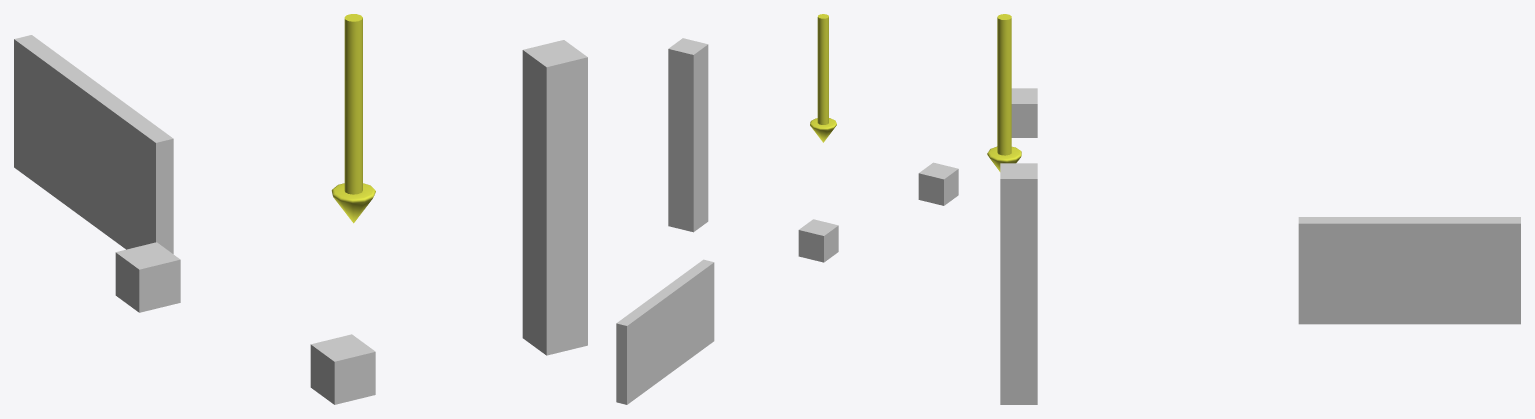
File: directional_light_debug.glb
3 views of the same model, side by side, from view 1: azimuth 30°, elevation 25°; view 2: azimuth 150°, elevation 25°; view 3: azimuth 270°, elevation 25° (orthographic). The views are drawn at different scales.
Parts seen in each view (by area): view 1: Cube.003, Cube.001, Cylinder, Cube, Cube.002; view 2: Cube.003, Cube.001, Cylinder, Cube.002, Cube; view 3: Cube.003, Cube.001, Cylinder, Cube.002.
Boxes of the visible parts, x1,y1,x2,y2 form: Cube.003: [14, 35, 173, 253]; Cube.001: [522, 40, 587, 355]; Cylinder: [331, 14, 375, 223]; Cube: [310, 334, 375, 404]; Cube.002: [115, 242, 180, 312]; Cube.003: [616, 259, 714, 404]; Cube.001: [668, 38, 708, 232]; Cylinder: [810, 14, 836, 142]; Cube.002: [918, 162, 958, 205]; Cube: [798, 219, 838, 262]; Cube.003: [1298, 217, 1520, 324]; Cube.001: [1000, 163, 1037, 404]; Cylinder: [987, 14, 1021, 171]; Cube.002: [1011, 88, 1037, 137].
Size of what is drawn, in the model's own units: 4.55 by 3.76 by 5.98.
